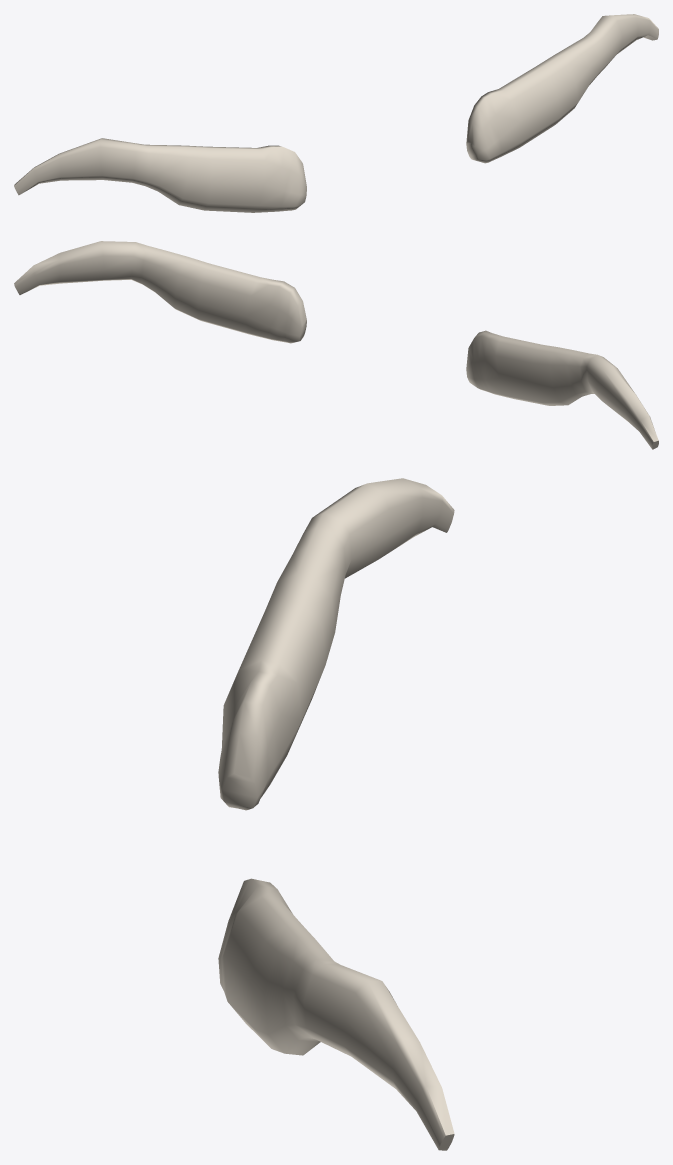
The model's file is Eyebrows_07_07.fbx.
3 views of the same model, one above another, from view 1: azimuth 30°, elevation 25°; view 2: azimuth 150°, elevation 25°; view 3: azimuth 270°, elevation 25° (orthographic). The views are drawn at different scales.
Parts seen in each view (by area): view 1: Eyebrows_07_07; view 2: Eyebrows_07_07; view 3: Eyebrows_07_07.
Part boxes in pixels (x1,y1,x2,y2): Eyebrows_07_07: [14, 14, 658, 212]; Eyebrows_07_07: [14, 241, 658, 449]; Eyebrows_07_07: [218, 478, 454, 1150].
Bounding box in the file's own units: 19.46 × 2.46 × 3.09.
